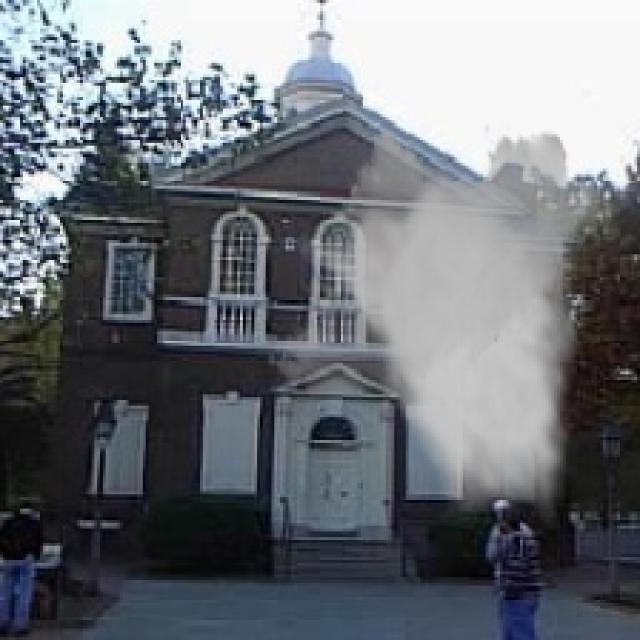Smoke: (266, 120, 612, 529)
